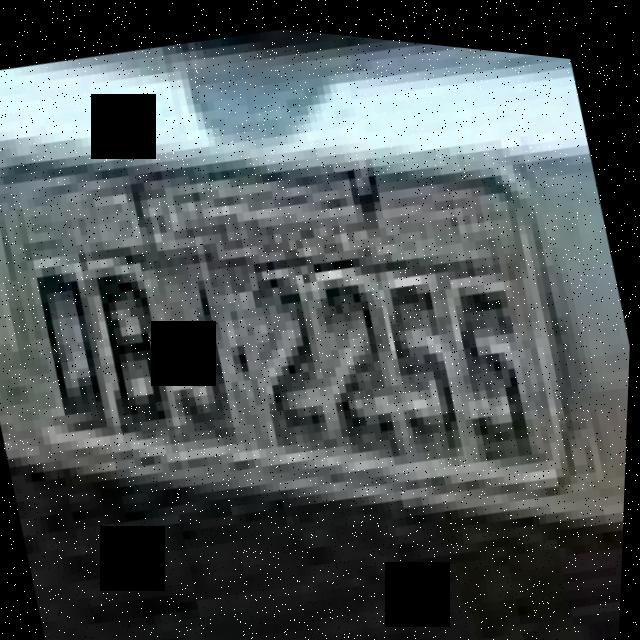5: (438, 245, 554, 463), (372, 251, 478, 465)
B: (86, 253, 185, 437)
J: (142, 251, 263, 452)
Q: (29, 250, 119, 437)
